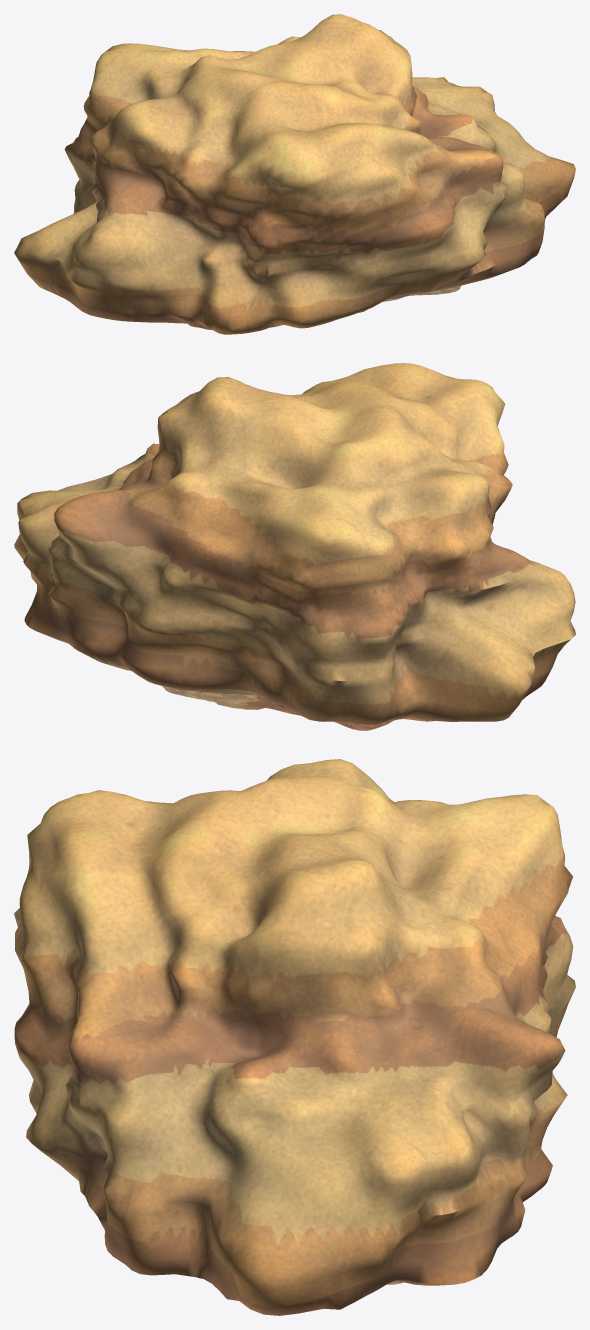
File: WM_RockDesert_B.fbx
The picture shows the model from 3 angles, top to bottom: view 1: azimuth 30°, elevation 25°; view 2: azimuth 150°, elevation 25°; view 3: azimuth 270°, elevation 25°; orthographic projection. The views are drawn at different scales.
Visible parts, largest first — view 1: WM_RockDesert_B_LOD0; view 2: WM_RockDesert_B_LOD0; view 3: WM_RockDesert_B_LOD0.
Part boxes in pixels (box(x1,y1,x2,y2)): WM_RockDesert_B_LOD0: box(14, 14, 575, 334); WM_RockDesert_B_LOD0: box(14, 363, 575, 730); WM_RockDesert_B_LOD0: box(14, 759, 575, 1315).
Size of what is drawn, in the model's own units: 2.24 by 0.9863 by 1.44.
